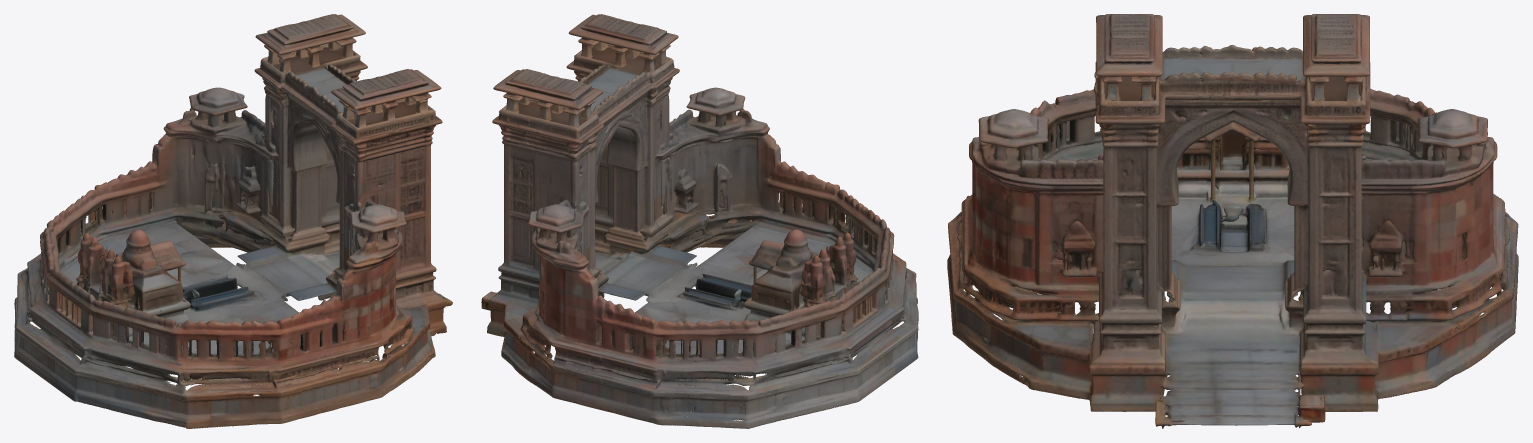
Rendered from warangal_fort.glb.
3 renders of one model, left to right at view 1: azimuth 30°, elevation 25°; view 2: azimuth 150°, elevation 25°; view 3: azimuth 270°, elevation 25°, orthographic. The views are drawn at different scales.
Visible parts, largest first — view 1: tripo_node_f93f1898-f2aa-40ad-b292-f6587e7ae7f8; view 2: tripo_node_f93f1898-f2aa-40ad-b292-f6587e7ae7f8; view 3: tripo_node_f93f1898-f2aa-40ad-b292-f6587e7ae7f8.
Boxes of the visible parts, x1=… form: tripo_node_f93f1898-f2aa-40ad-b292-f6587e7ae7f8: x1=14, y1=14, x2=452, y2=428; tripo_node_f93f1898-f2aa-40ad-b292-f6587e7ae7f8: x1=481, y1=14, x2=918, y2=428; tripo_node_f93f1898-f2aa-40ad-b292-f6587e7ae7f8: x1=947, y1=14, x2=1518, y2=428.
Bounding box in the file's own units: 0.9999 × 0.6361 × 0.9478.
Materials: 1 (1 with a texture image).
